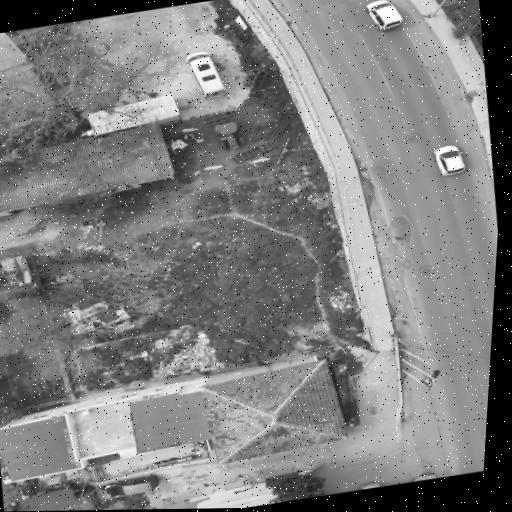car: (186, 51, 226, 99), (103, 475, 157, 497), (366, 0, 401, 29), (434, 146, 464, 175), (360, 483, 379, 489), (414, 475, 435, 480)
tractors: (213, 121, 238, 149)
